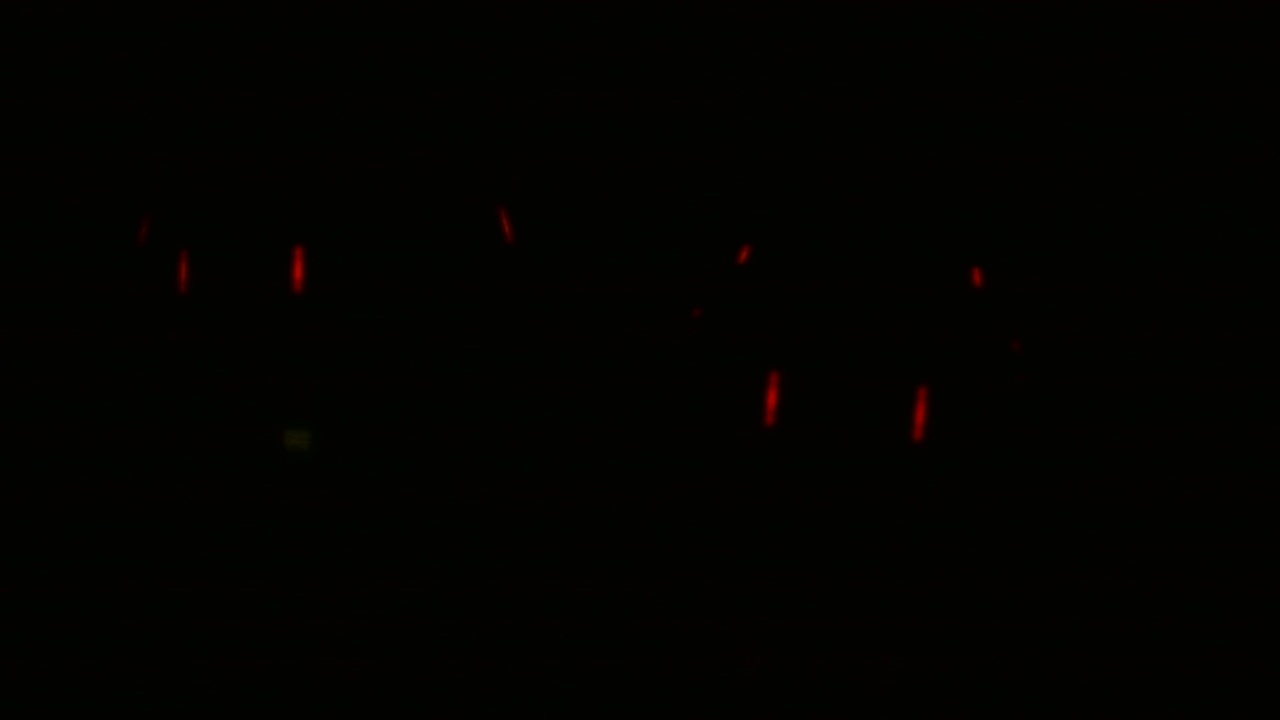pair1: (754, 361, 938, 469), (167, 233, 308, 296)
